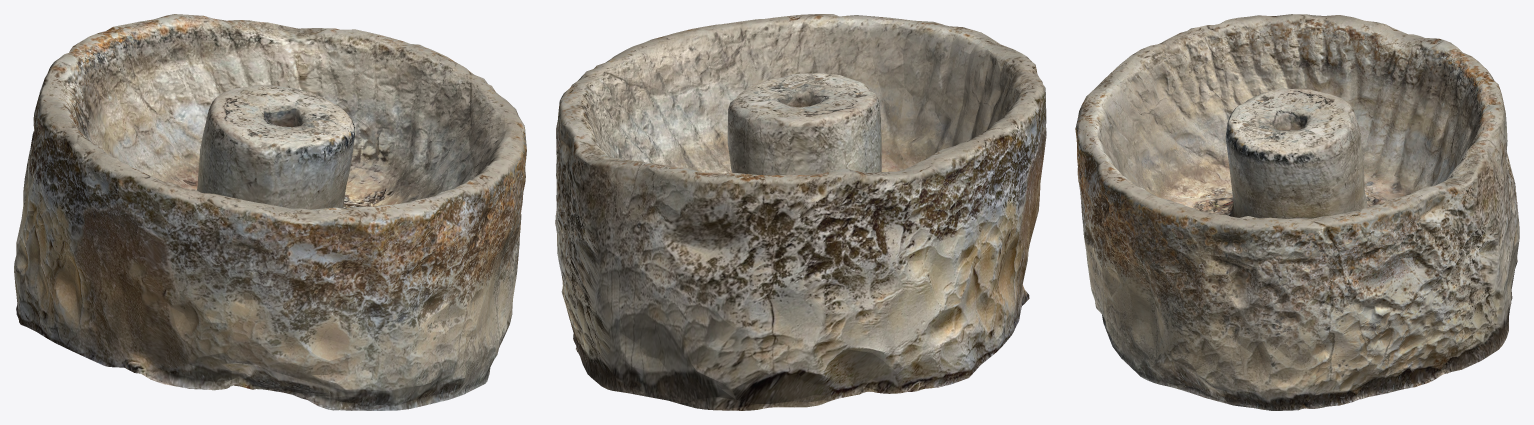
File: stone_basin__water_temple_zaghouan.glb
3 views of the same model, side by side, from view 1: azimuth 30°, elevation 25°; view 2: azimuth 150°, elevation 25°; view 3: azimuth 270°, elevation 25° (orthographic). The views are drawn at different scales.
Parts seen in each view (by area): view 1: Object_2; view 2: Object_2; view 3: Object_2.
Part boxes in pixels (x1=…): Object_2: x1=14, y1=14, x2=526, y2=410; Object_2: x1=555, y1=14, x2=1046, y2=410; Object_2: x1=1075, y1=14, x2=1519, y2=410.
Bounding box in the file's own units: 1.11 × 0.6447 × 1.13.
Materials: 1 (1 with a texture image).
